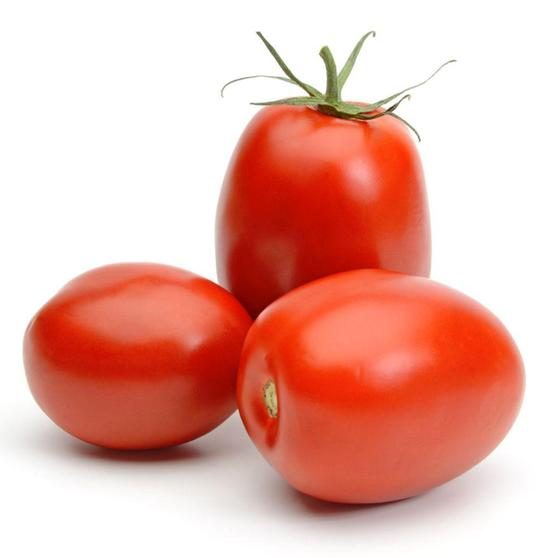tomato: (236, 269, 524, 505), (24, 257, 253, 451)
